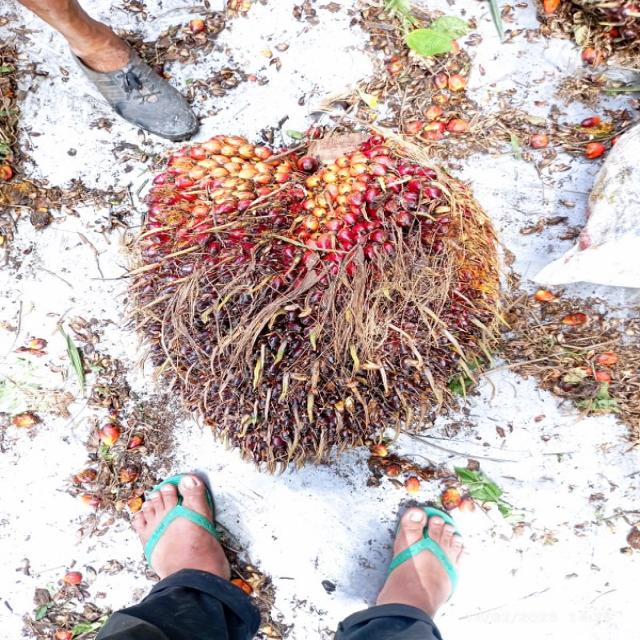fraksi 1: (140, 131, 498, 466)
